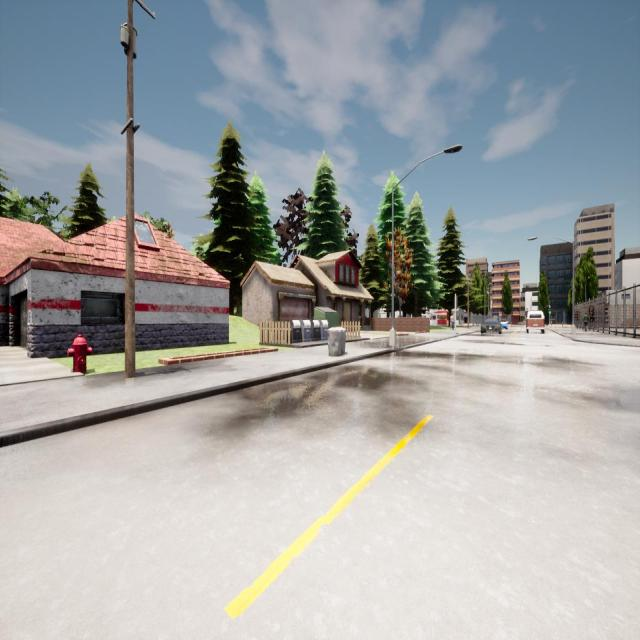Pedestrian: (583, 312, 589, 332), (450, 312, 454, 331)
Vehicle: (526, 311, 545, 333), (481, 318, 500, 334), (500, 321, 508, 329)
traffic_light: (455, 298, 458, 309), (548, 308, 552, 315)
